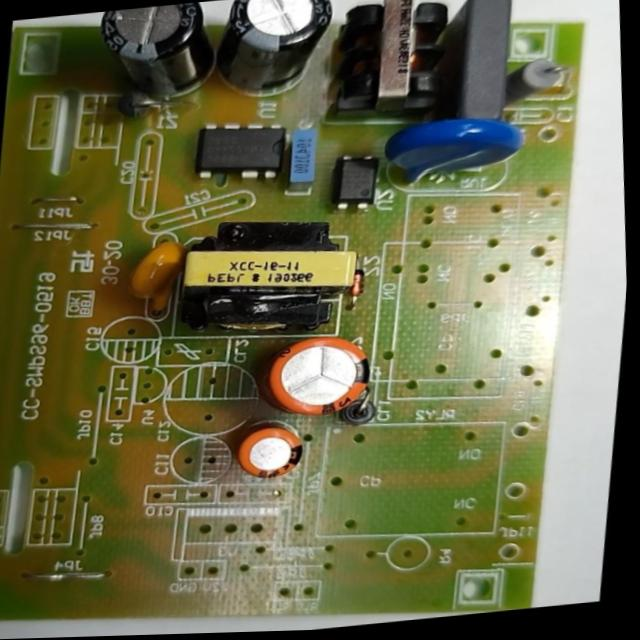Cap1: (256, 326, 381, 425)
Cap2: (230, 420, 311, 486)
Cap3: (201, 0, 346, 106)
Cap4: (87, 0, 229, 109)
MOSFET: (192, 116, 290, 184)
Mov: (377, 110, 535, 198)
Resistor: (502, 48, 573, 109)
Transformer: (165, 202, 370, 343), (317, 0, 468, 129)
